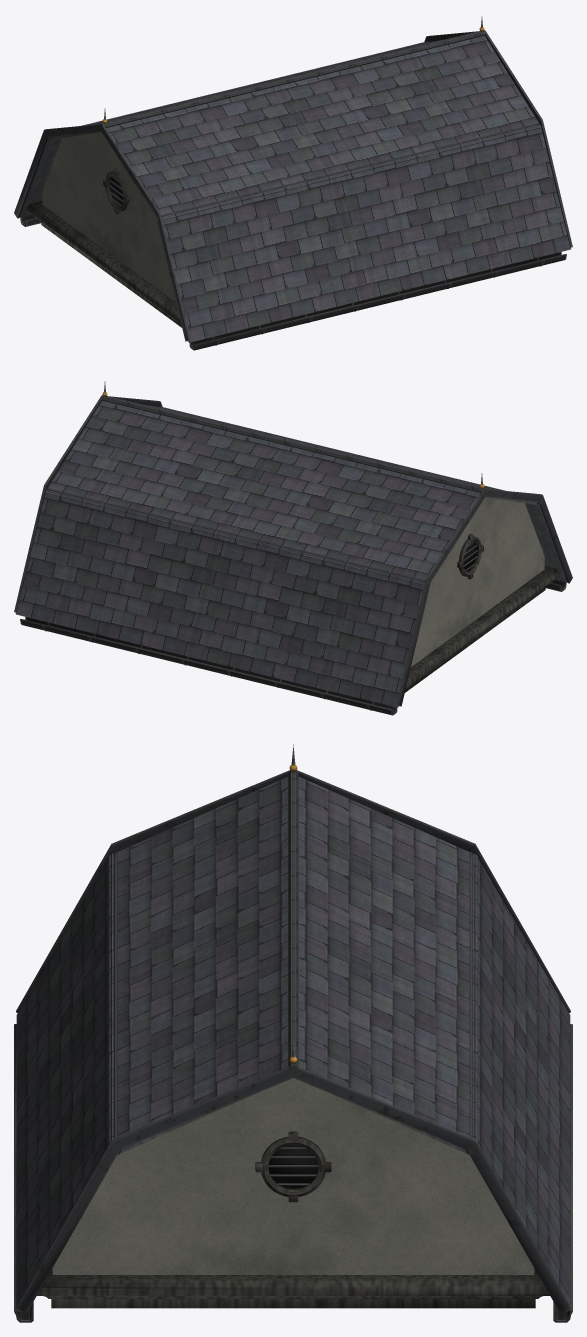
Rendered from GambrelRoof.fbx.
3 views of the same model, one above another, from view 1: azimuth 30°, elevation 25°; view 2: azimuth 150°, elevation 25°; view 3: azimuth 270°, elevation 25° (orthographic). The views are drawn at different scales.
Parts seen in each view (by area): view 1: GambrelRoof_Slate, GambrelRoof_Main, GambrelRoof_Stone, GambrelRoof_Lead; view 2: GambrelRoof_Slate, GambrelRoof_Main, GambrelRoof_Stone, GambrelRoof_Lead; view 3: GambrelRoof_Slate, GambrelRoof_Stone, GambrelRoof_Main.
Part boxes in pixels (x1=…): GambrelRoof_Slate: x1=48, y1=35, x2=571, y2=342; GambrelRoof_Main: x1=14, y1=16, x2=572, y2=350; GambrelRoof_Stone: x1=42, y1=132, x2=175, y2=301; GambrelRoof_Lead: x1=19, y1=132, x2=101, y2=217; GambrelRoof_Slate: x1=15, y1=400, x2=538, y2=707; GambrelRoof_Main: x1=14, y1=381, x2=572, y2=715; GambrelRoof_Stone: x1=411, y1=497, x2=544, y2=666; GambrelRoof_Lead: x1=485, y1=497, x2=567, y2=582; GambrelRoof_Slate: x1=16, y1=776, x2=570, y2=1312; GambrelRoof_Stone: x1=52, y1=1078, x2=534, y2=1274; GambrelRoof_Main: x1=14, y1=744, x2=572, y2=1322.
Size of the model in its own units: 1753 by 800 by 1392.
